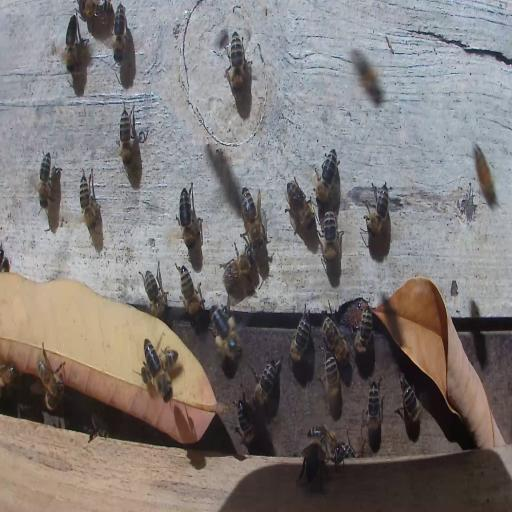nonpollenbee: (142, 340, 172, 406), (250, 350, 282, 409), (350, 50, 384, 102), (176, 182, 201, 252), (472, 144, 498, 207), (313, 148, 340, 206), (139, 262, 167, 316), (286, 179, 313, 235), (365, 180, 391, 238), (397, 374, 423, 431), (223, 244, 255, 290), (78, 165, 99, 234), (241, 186, 264, 248), (320, 208, 342, 272), (141, 348, 180, 384), (178, 266, 203, 320), (297, 439, 324, 489), (366, 374, 383, 452), (37, 358, 66, 403), (228, 31, 248, 96), (322, 350, 340, 418), (235, 396, 255, 456), (62, 12, 82, 72), (325, 324, 352, 367), (118, 102, 136, 166), (290, 307, 310, 363), (352, 305, 373, 356), (324, 429, 354, 464), (38, 151, 54, 213), (112, 2, 126, 65), (88, 414, 110, 440), (1, 362, 18, 386), (307, 425, 329, 441), (16, 403, 38, 418)
pollenbee: (210, 309, 242, 361)
